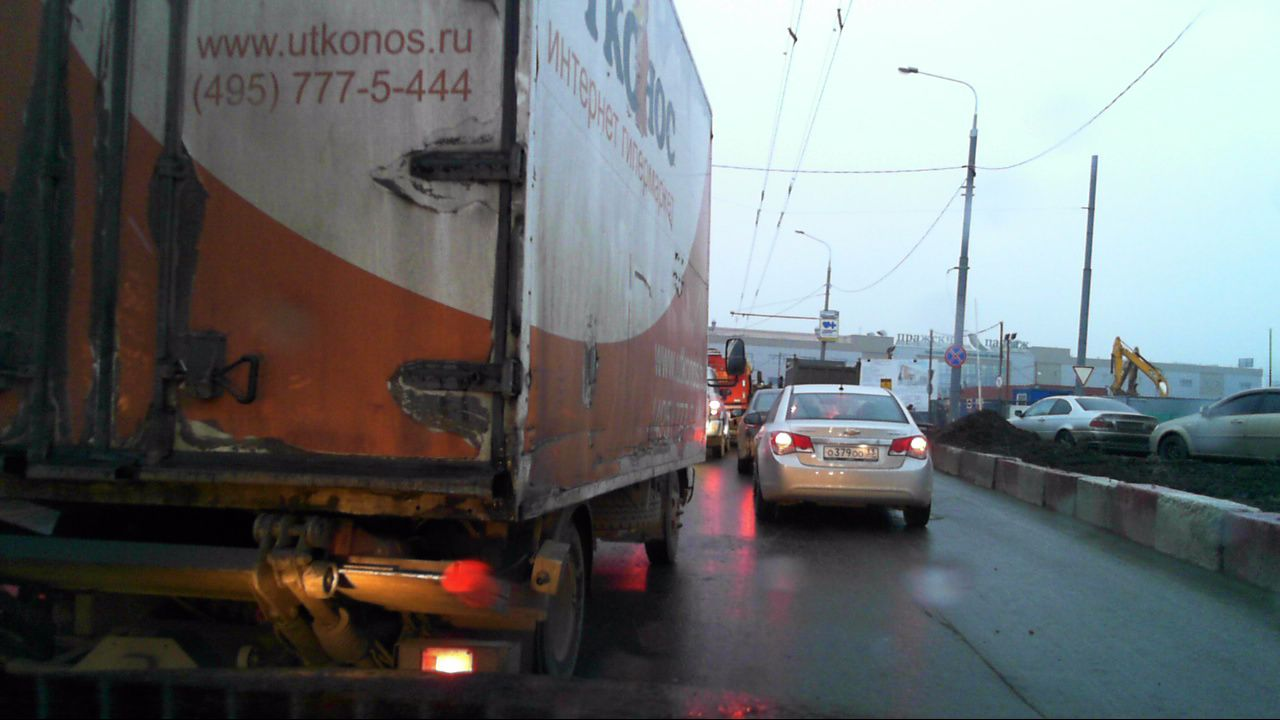No Parking: (943, 344, 966, 367)
